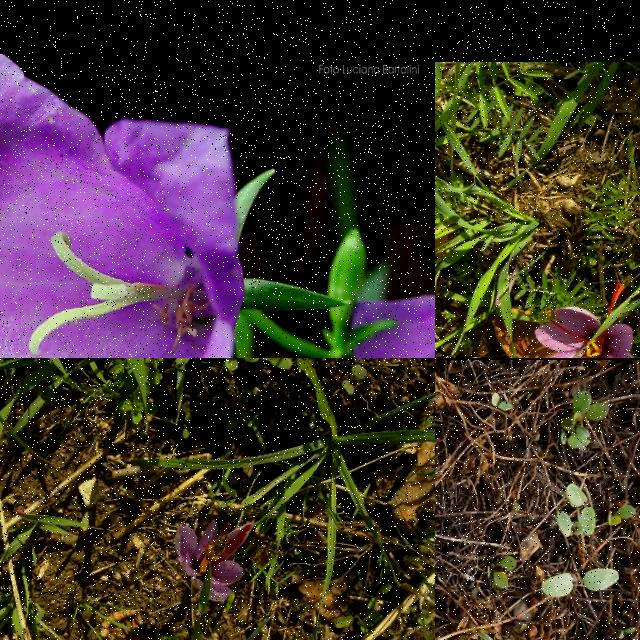flower: (533, 282, 640, 358), (175, 520, 255, 602)
